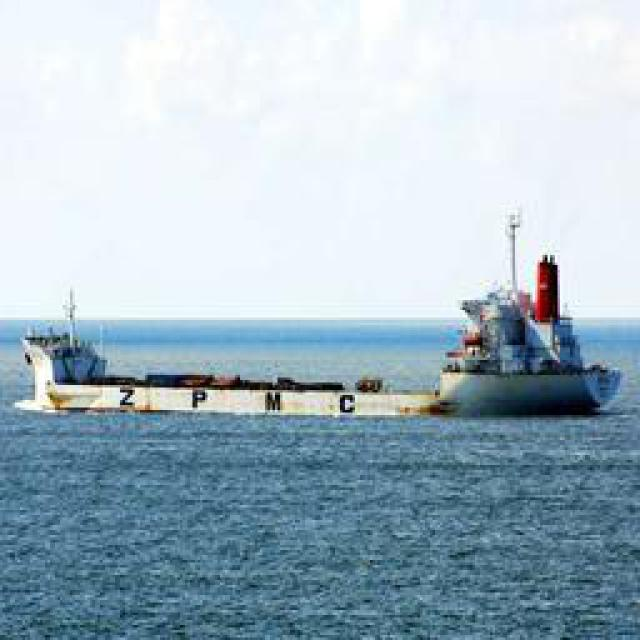Ship: (430, 211, 623, 419)
